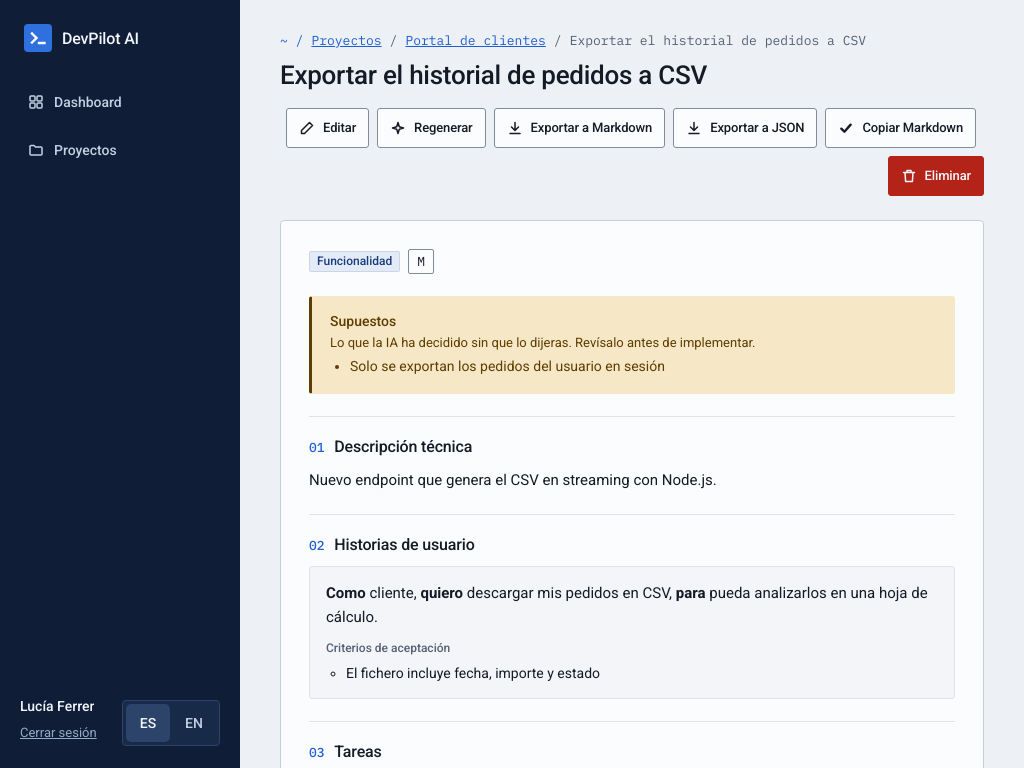
it: translating a generation › keeps the original and offers to try again when the translation fails
Expected: the heading "Exportar el historial de pedidos a CSV" is shown, [280,59,707,92]
Click the button "EN" at (194, 723), box [172,704,216,742]
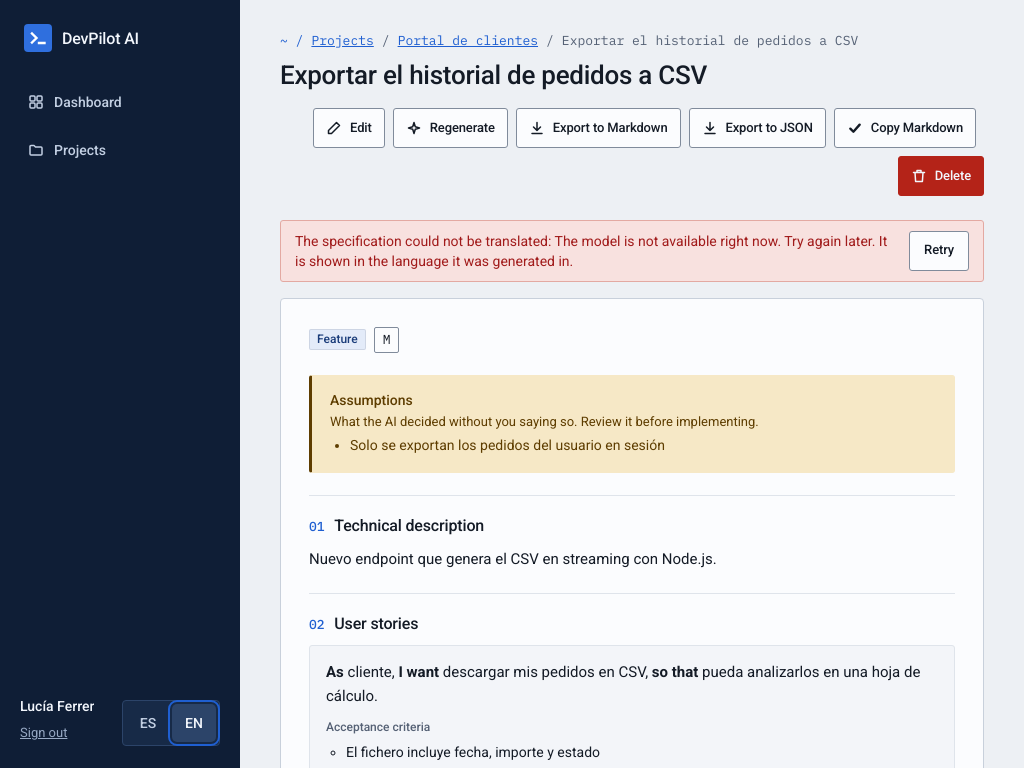
Expected: the heading "Exportar el historial de pedidos a CSV" is shown, [280,59,707,92]
Result: the message shows "The specification could not be translated" at [295,232,887,269]
Click the button "Retry" at (939, 251), box [909,231,969,271]
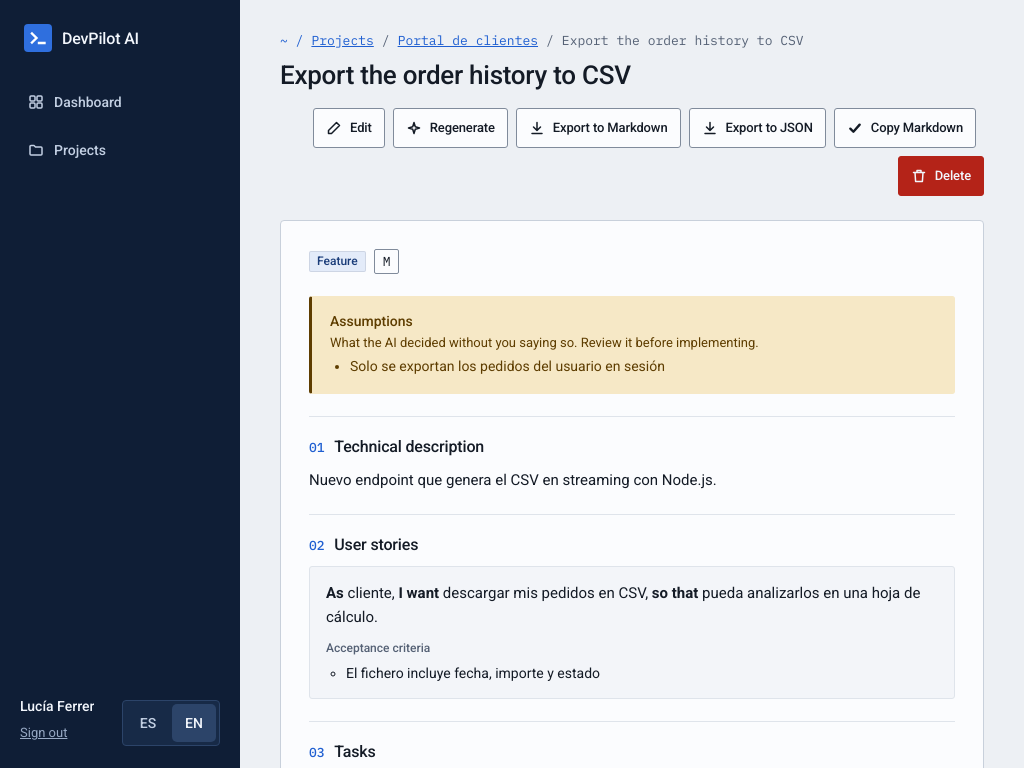
Result: the heading "Export the order history to CSV" is shown at [280,59,631,92]
